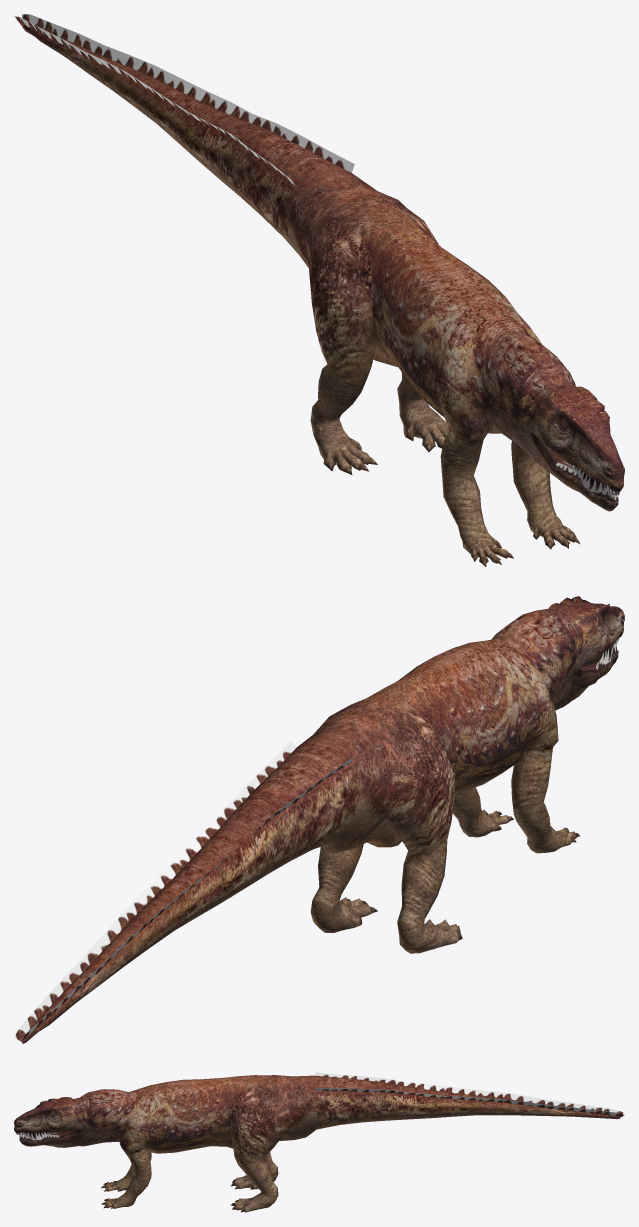
The model's file is postosuchus.glb.
3 views of the same model, one above another, from view 1: azimuth 30°, elevation 25°; view 2: azimuth 150°, elevation 25°; view 3: azimuth 270°, elevation 25° (orthographic). The views are drawn at different scales.
Parts seen in each view (by area): view 1: New MMD Model_mesh_2; view 2: New MMD Model_mesh_2; view 3: New MMD Model_mesh_2.
Part boxes in pixels (x1=…): New MMD Model_mesh_2: x1=14, y1=14, x2=624, y2=566; New MMD Model_mesh_2: x1=14, y1=596, x2=624, y2=1043; New MMD Model_mesh_2: x1=14, y1=1072, x2=624, y2=1212.
Bounding box in the file's own units: 2.4 × 4.09 × 18.69.
Materials: 1 (1 with a texture image).
